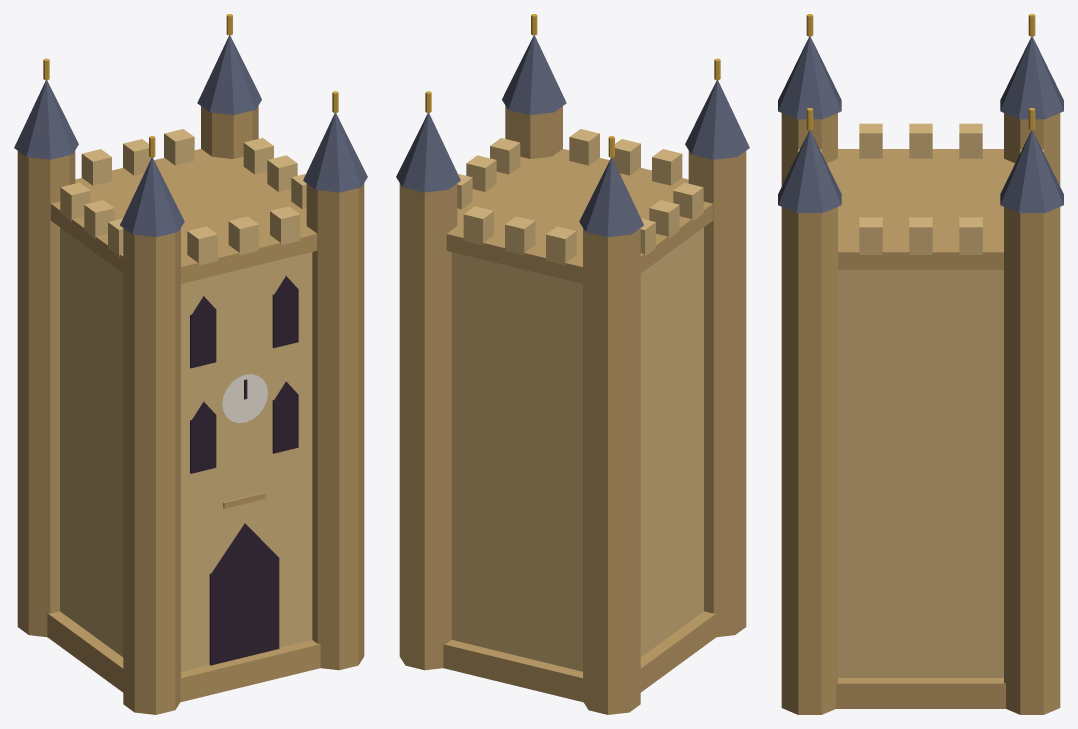
The model's file is oxford_tower.glb.
The picture shows the model from 3 angles, left to right: view 1: azimuth 30°, elevation 25°; view 2: azimuth 150°, elevation 25°; view 3: azimuth 270°, elevation 25°; orthographic projection. The views are drawn at different scales.
Bounding box in the file's own units: 5.15 × 11.8 × 5.15.
